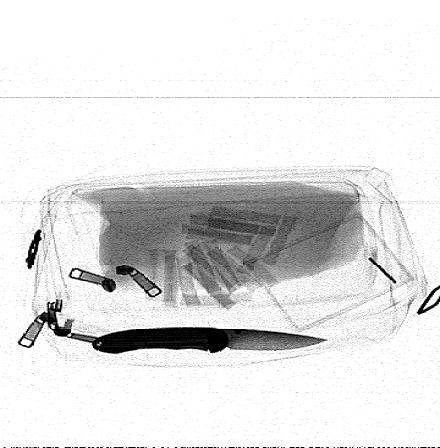Knife: (90, 326, 334, 356)
